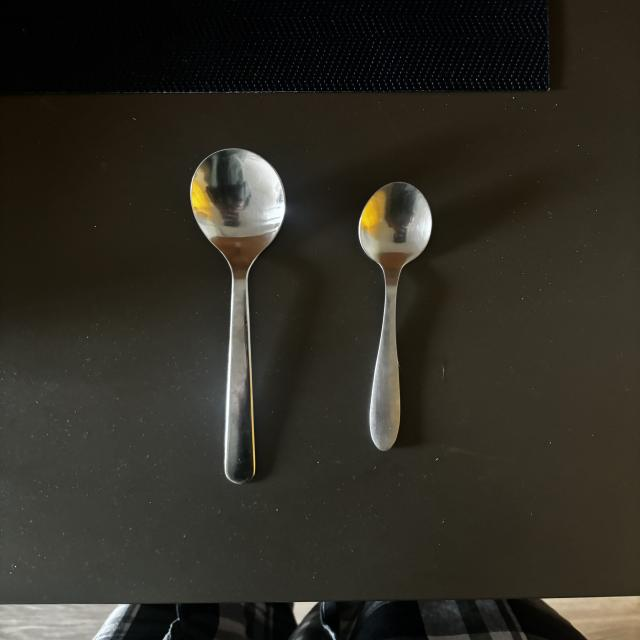spoon: (188, 149, 287, 489), (357, 183, 434, 454)
